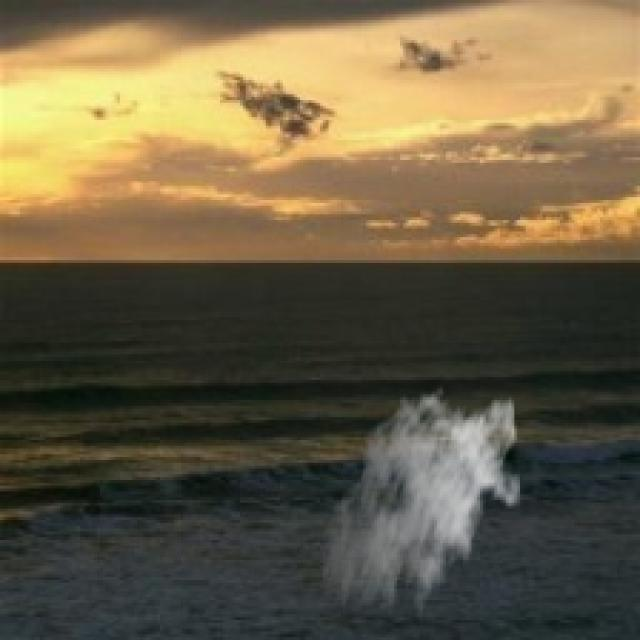smoke: (320, 383, 523, 628)
